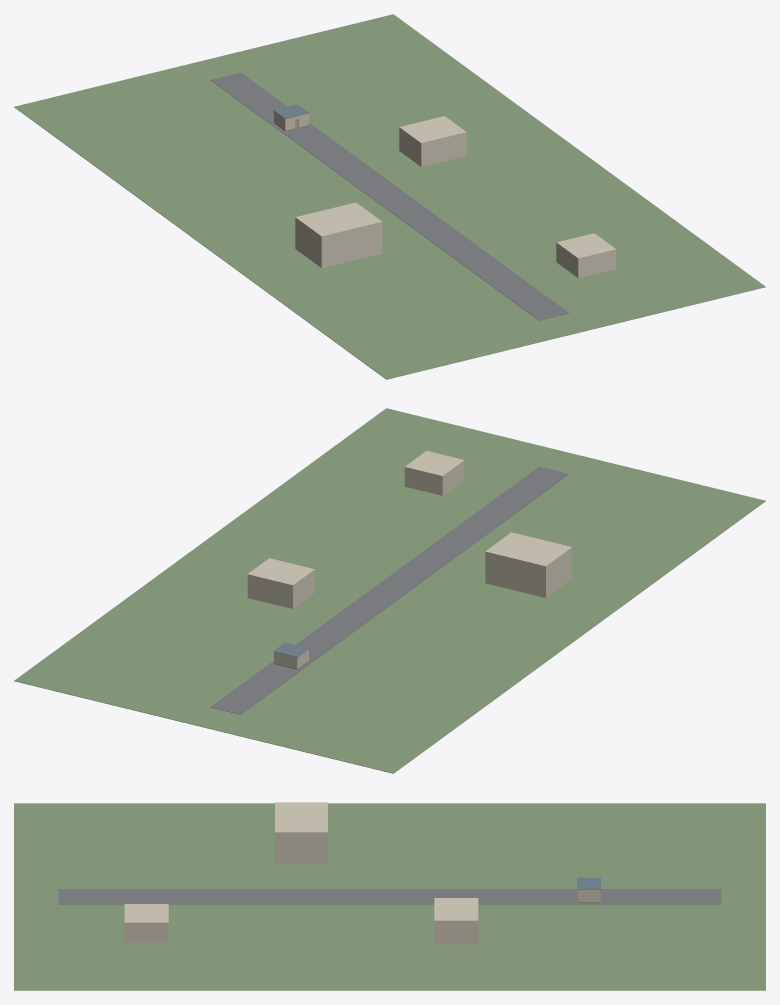
File: local-place.glb
3 renders of one model, top to bottom at view 1: azimuth 30°, elevation 25°; view 2: azimuth 150°, elevation 25°; view 3: azimuth 270°, elevation 25°, orthographic.
Parts seen in each view (by area): view 1: local-ground, street, university, work, community; view 2: local-ground, street, university, work, community; view 3: local-ground, street, university, work, community.
Boxes of the visible parts, bbox=[...] form: local-ground: bbox=[14, 14, 765, 379]; street: bbox=[210, 72, 569, 320]; university: bbox=[295, 202, 382, 267]; work: bbox=[399, 116, 466, 166]; community: bbox=[556, 233, 616, 278]; local-ground: bbox=[14, 408, 765, 773]; street: bbox=[210, 466, 569, 714]; university: bbox=[485, 532, 572, 597]; work: bbox=[247, 558, 314, 608]; community: bbox=[404, 450, 464, 495]; local-ground: bbox=[14, 803, 765, 990]; street: bbox=[58, 889, 721, 904]; university: bbox=[275, 802, 327, 864]; work: bbox=[434, 898, 478, 944]; community: bbox=[124, 904, 168, 942].
Size of the model in its own units: 100 by 8.3 by 170.
